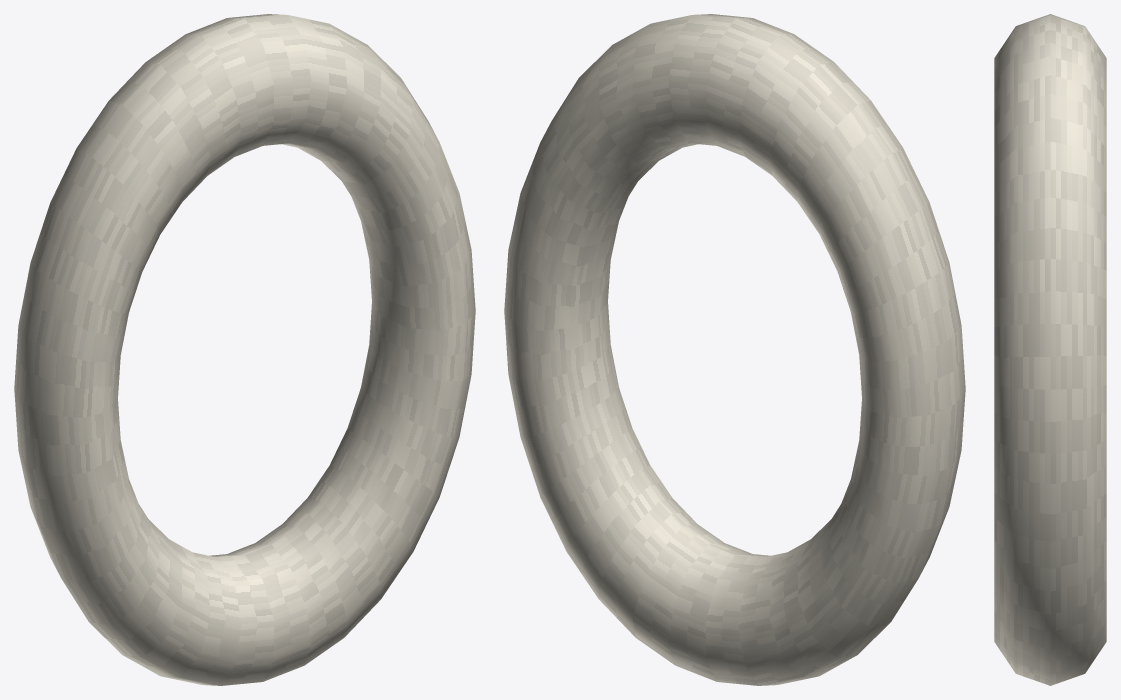
Rendered from curtain-ring.glb.
3 renders of one model, left to right at view 1: azimuth 30°, elevation 25°; view 2: azimuth 150°, elevation 25°; view 3: azimuth 270°, elevation 25°, orthographic. The views are drawn at different scales.
Visible parts, largest first — view 1: loop; view 2: loop; view 3: loop.
Boxes of the visible parts, <box> form: loop: <box>14,14,475,685</box>; loop: <box>504,14,965,685</box>; loop: <box>994,14,1106,685</box>.
Bounding box in the file's own units: 0.044 × 0.063 × 0.01.
1 material, 1 textured.
